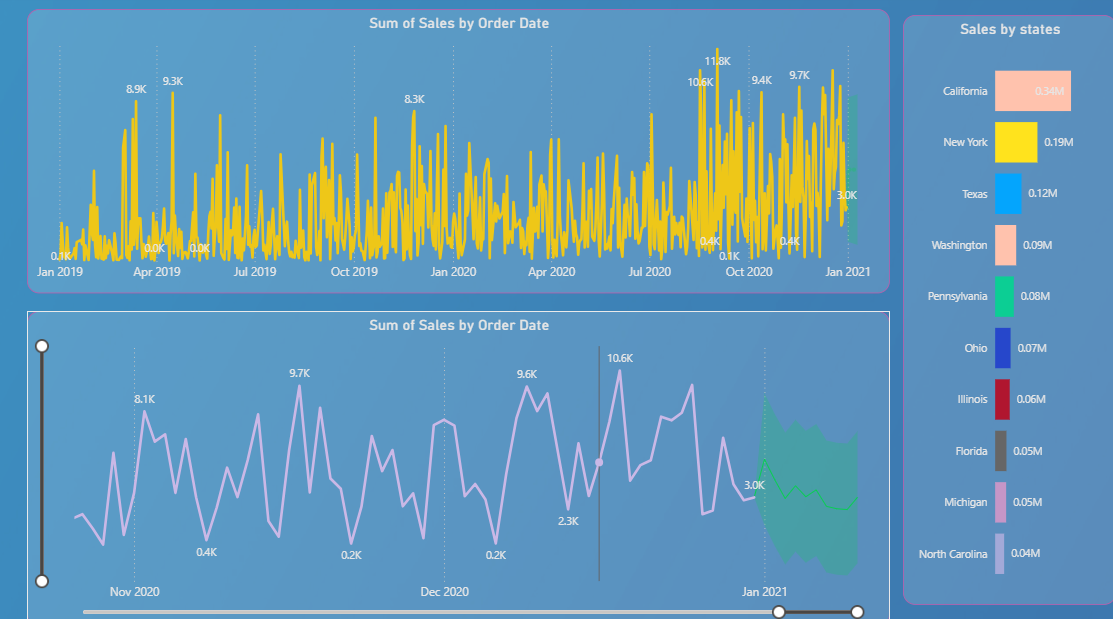

This screenshot's page, from the dashboard's own definition file:
{"tool":"powerbi","page":{"name":"Salesforecast","canvas":[1280,720],"ordinal":1},"visuals":[{"type":"lineChart","fields":{"Y":["Sum(Superstore Sale.Sales)"],"Category":["Superstore Sale.Order Date"]},"box":[38.6,15.4,983.1,323.9],"z":0},{"type":"lineChart","fields":{"Y":["Sum(Superstore Sale.Sales)"],"Category":["Superstore Sale.Order Date"]},"box":[38.6,359.8,983.1,359.8],"z":1000},{"type":"clusteredBarChart","title":" Sales by states","fields":{"Category":["Superstore Sale.State"],"Y":["Sum(Sheet1.Sales)"]},"box":[1037.1,23.1,242.9,672.1],"z":1001}]}

Visuals, with their boxes in screenshot pixels (x1, y1, x2, y2), scaled from the page's 1280x720 canvas onto the 1113x619 screenshot:
lineChart - Sum(Superstore Sale.Sales) x Superstore Sale.Order Date: [34,13,888,292]
lineChart - Sum(Superstore Sale.Sales) x Superstore Sale.Order Date: [34,309,888,618]
" Sales by states" clusteredBarChart: [902,20,1112,598]
